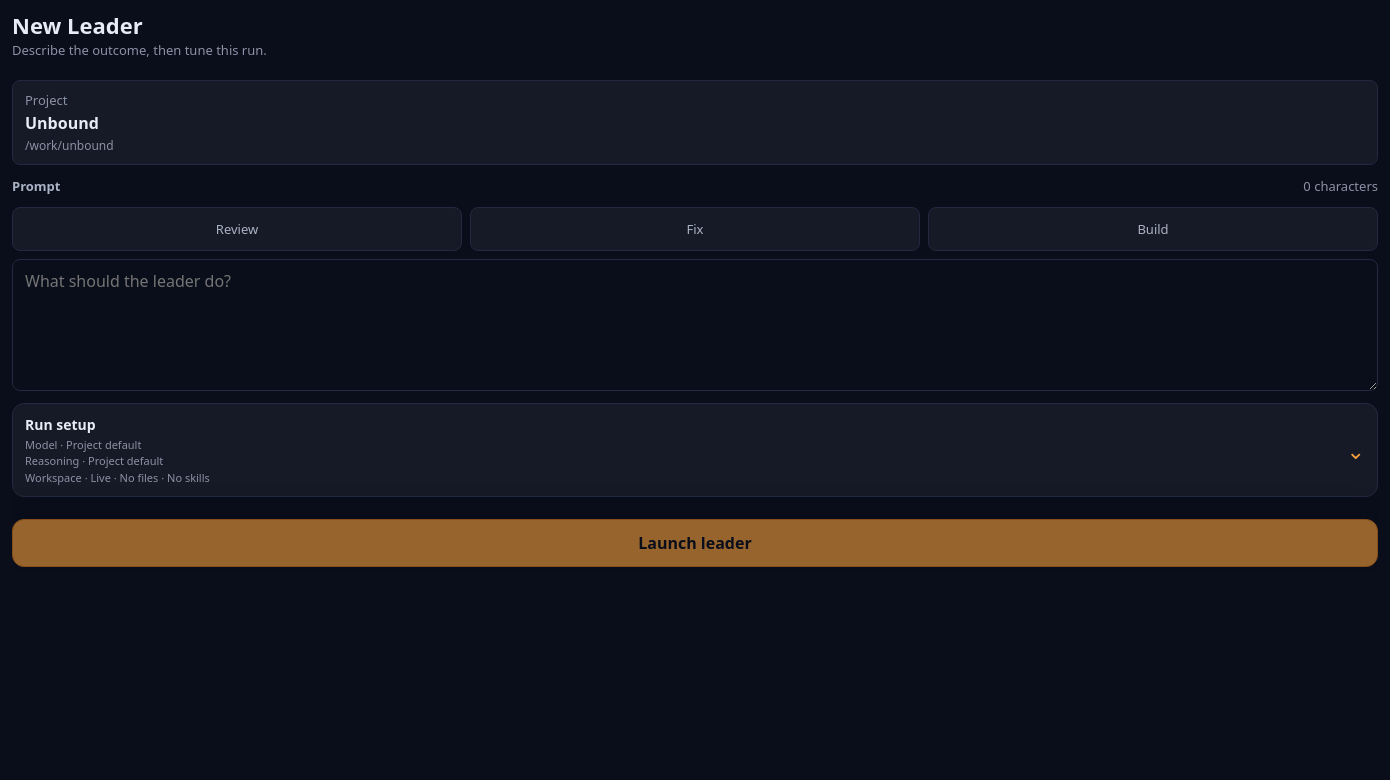
Test: LaunchScreen › does not launch a Leader without project identity
In the text box labelled "Prompt": {"x": 695, "y": 325} [12,259,1378,391], type "Ship it"
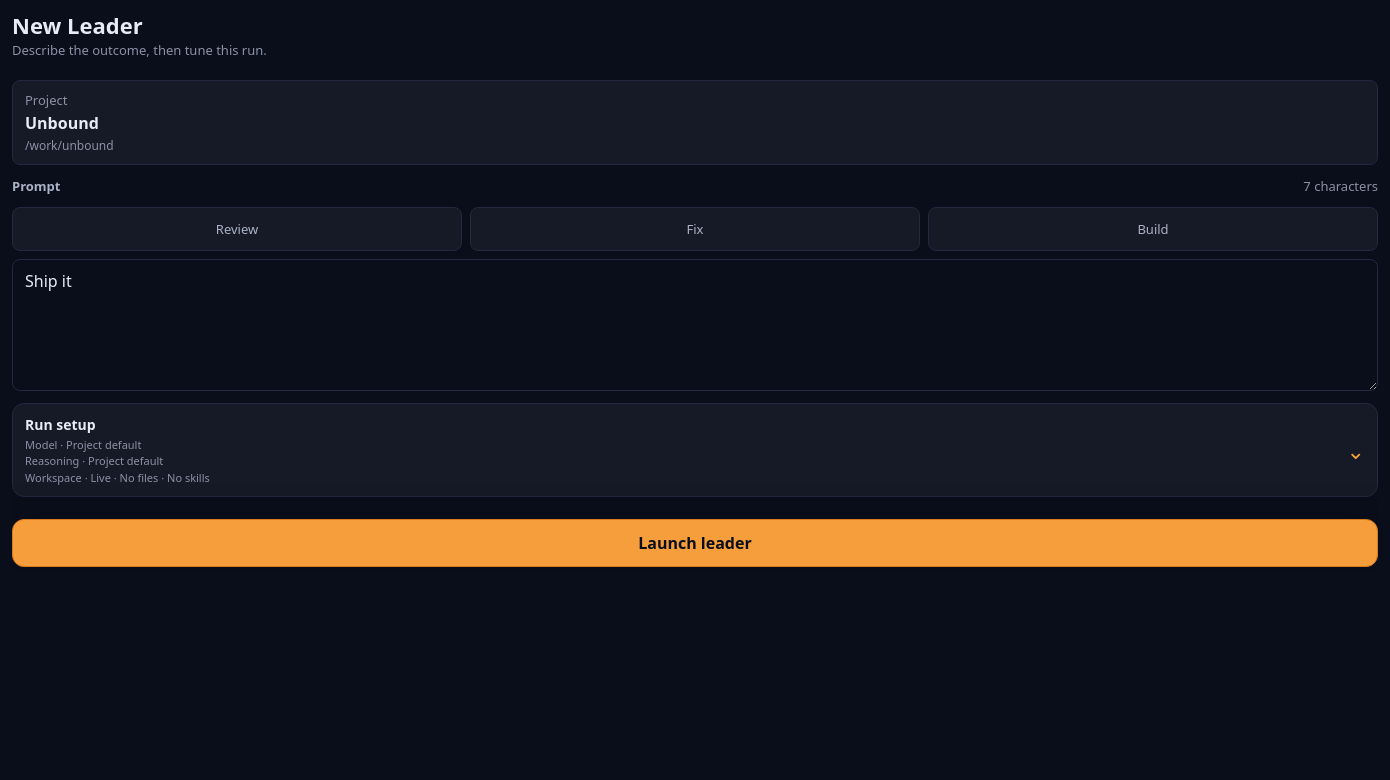
Click the button "Launch leader": {"x": 695, "y": 543} [12,519,1378,567]
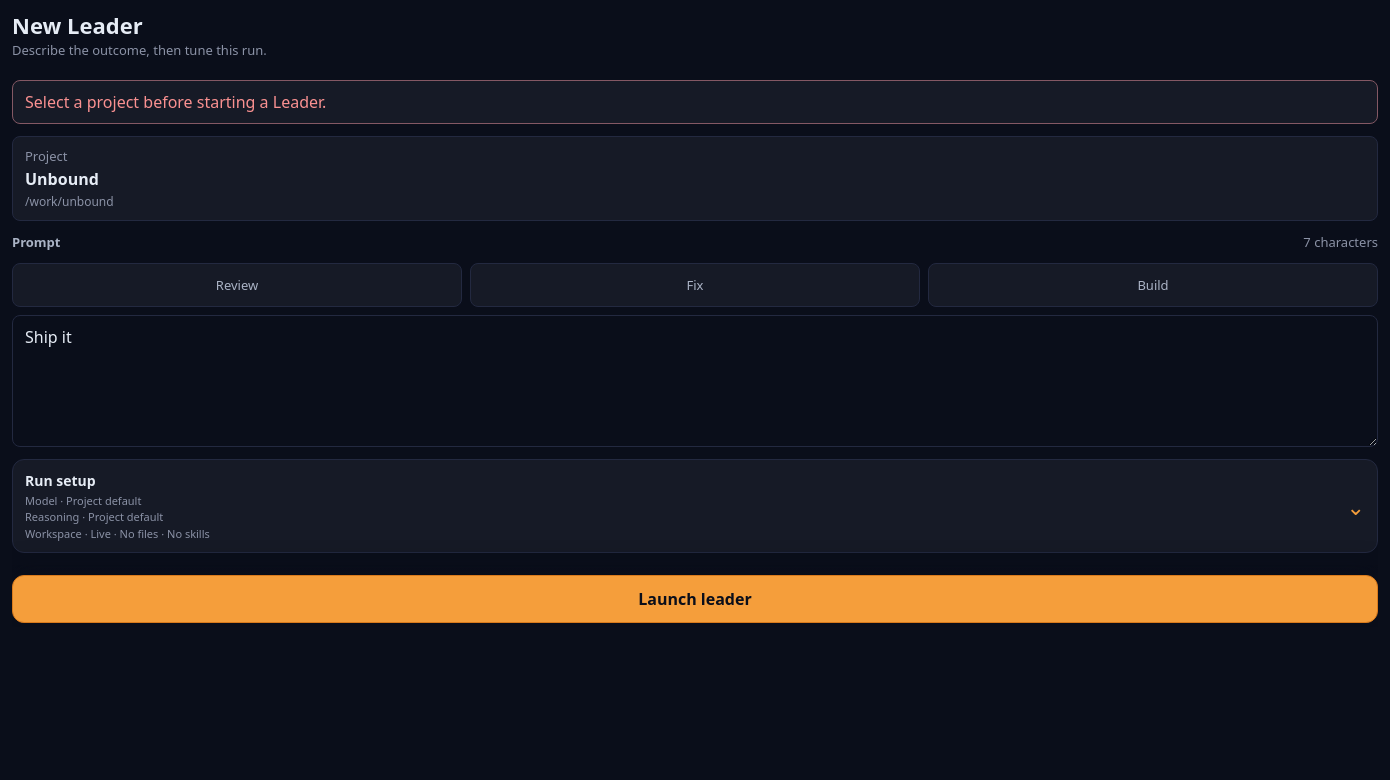
expect the text "Select a project before starting a Leader." is shown: met, box [12,80,1378,124]
